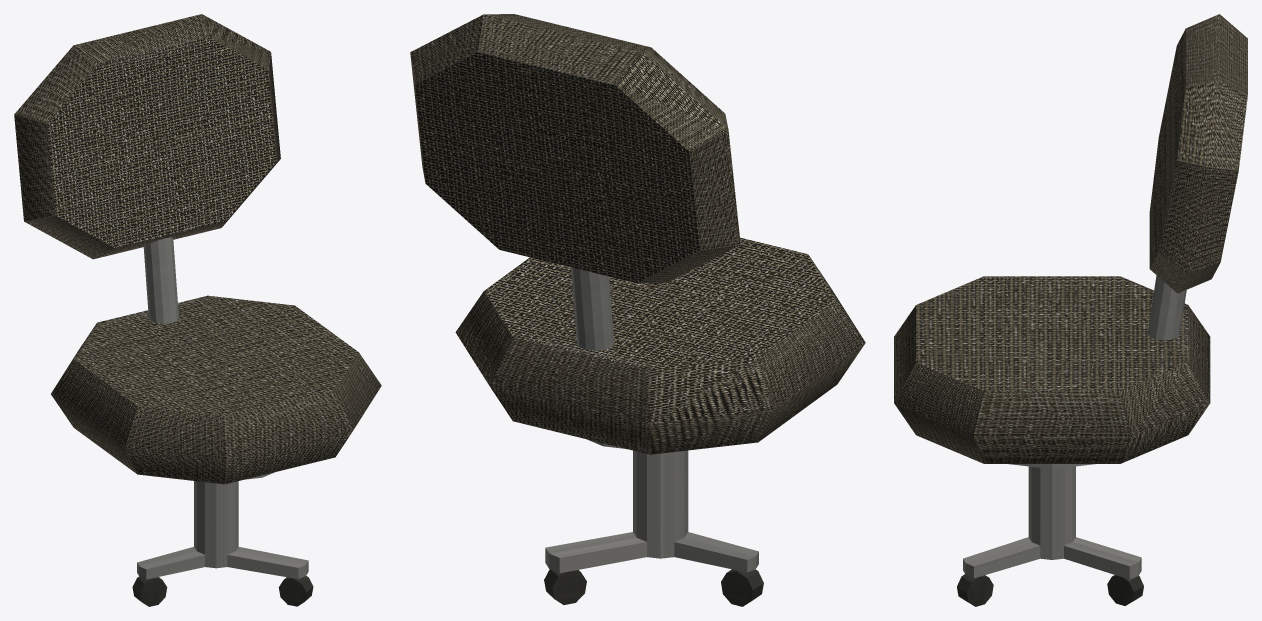
Rendered from chair_surfaced.fbx.
3 renders of one model, left to right at view 1: azimuth 30°, elevation 25°; view 2: azimuth 150°, elevation 25°; view 3: azimuth 270°, elevation 25°, orthographic. The views are drawn at different scales.
Parts seen in each view (by area): view 1: pCube2, pCube1, pCylinder1, pCylinder5, pCylinder3, pCylinder4; view 2: pCube2, pCube1, pCylinder1, pCylinder5, pCylinder3, pCylinder2; view 3: pCube1, pCube2, pCylinder1, pCylinder5, pCylinder4, pCylinder2.
Part boxes in pixels (box(x1,y1,x2,y2)): pCube2: box(14, 14, 280, 259); pCube1: box(51, 295, 381, 484); pCylinder1: box(137, 472, 308, 579); pCylinder5: box(143, 237, 178, 323); pCylinder3: box(132, 576, 167, 606); pCylinder4: box(278, 576, 313, 606); pCube2: box(410, 14, 740, 283); pCube1: box(455, 237, 865, 454); pCylinder1: box(545, 439, 758, 573); pCylinder5: box(571, 267, 614, 350); pCylinder3: box(721, 569, 763, 606); pCylinder2: box(544, 569, 586, 604); pCube1: box(894, 276, 1210, 463); pCube2: box(1149, 14, 1247, 293); pCylinder1: box(963, 464, 1141, 579); pCylinder5: box(1147, 275, 1186, 340); pCylinder4: box(957, 574, 993, 606); pCylinder2: box(1107, 575, 1143, 605).
Bounding box in the file's own units: 54.41 × 101 × 60.87.
Materials: 3 (3 with a texture image).
